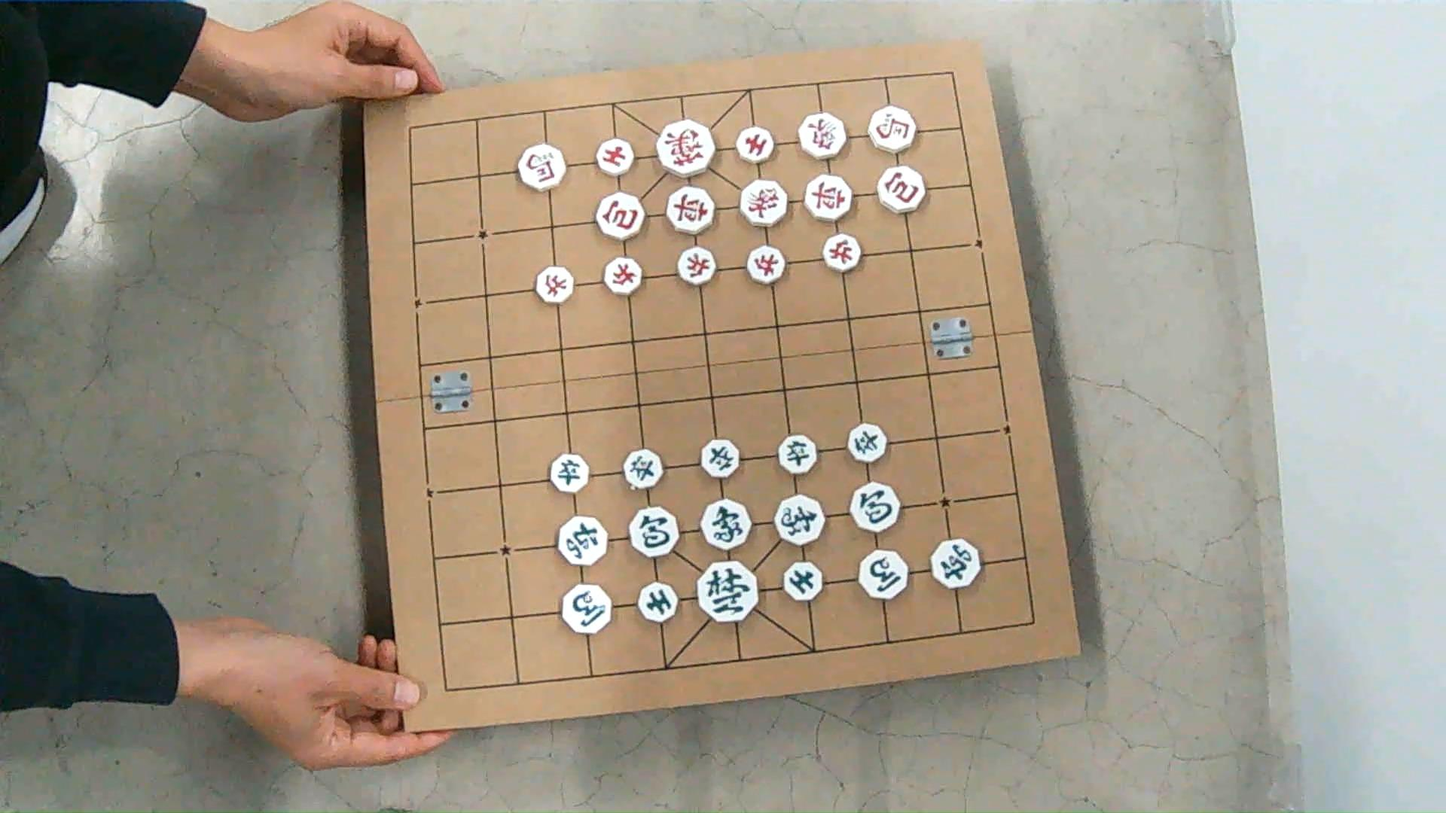cha_green: (557, 516, 607, 565), (931, 539, 980, 588)
cha_red: (666, 186, 714, 234), (805, 175, 852, 221)
jol_green: (624, 449, 662, 489), (778, 435, 816, 474), (848, 423, 886, 462), (700, 440, 739, 478), (550, 454, 587, 493)
jol_red: (748, 246, 785, 284), (824, 234, 861, 272), (536, 266, 573, 303), (604, 257, 641, 294), (678, 247, 714, 285)
ma_green: (859, 550, 908, 599), (561, 584, 610, 633)
ma_red: (868, 106, 915, 152), (518, 145, 566, 190)
po_green: (630, 507, 678, 558), (851, 483, 899, 532)
po_red: (596, 193, 644, 240), (878, 166, 924, 213)
sa_green: (639, 583, 677, 623), (784, 562, 822, 601)
sa_red: (596, 139, 634, 176), (737, 126, 774, 163)
sang_green: (701, 499, 751, 550), (775, 495, 824, 545)
sang_red: (740, 180, 787, 227), (798, 114, 845, 159)
wang_green: (697, 560, 757, 623)
wang_red: (657, 120, 715, 176)
